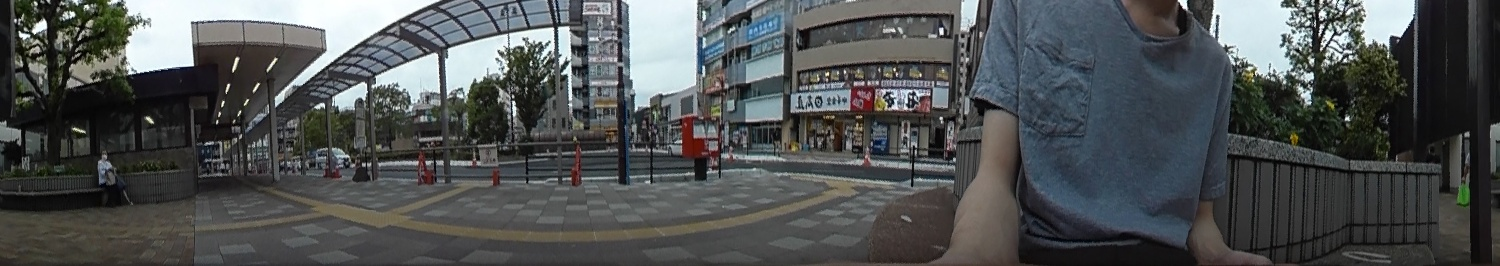person: (96, 147, 126, 209)
